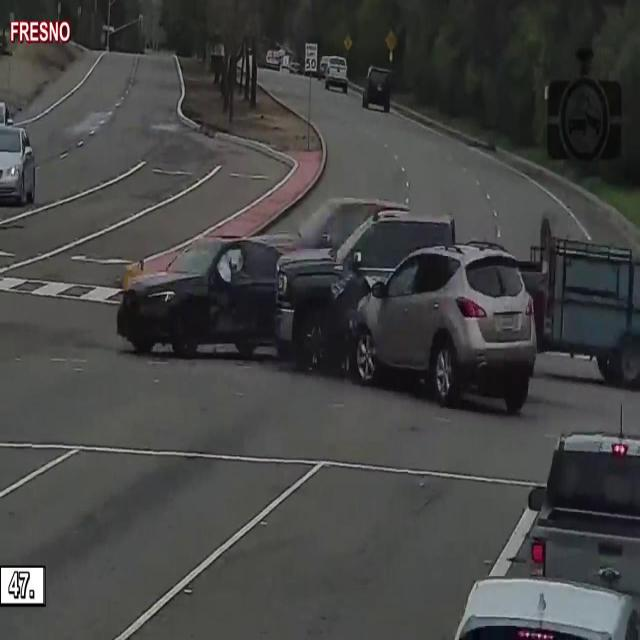accident: (115, 203, 543, 422)
